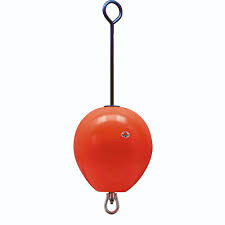buoy: (73, 106, 153, 192)
